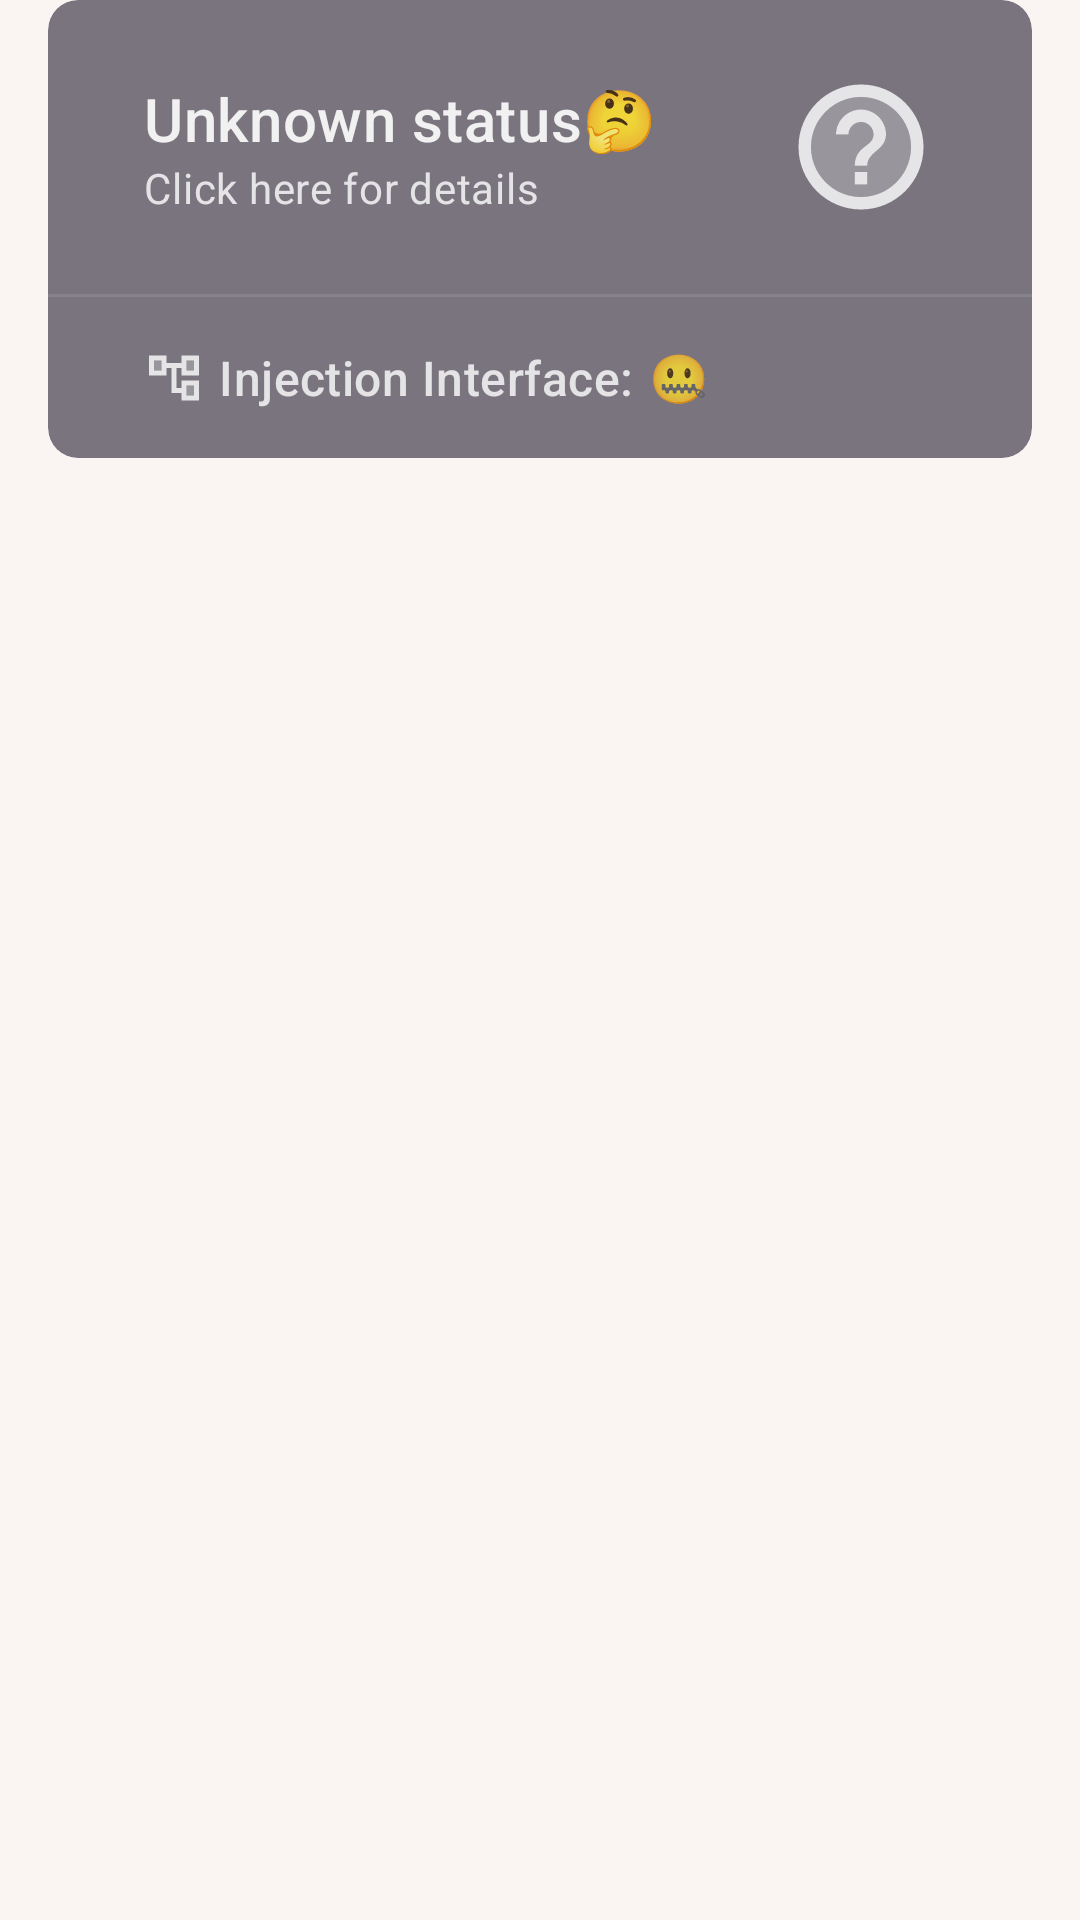

Screen size 1080*1920. Icon name, then its box in pixels as (x1, y1, x2, y2):
Click here for details: (798, 84, 924, 210)
